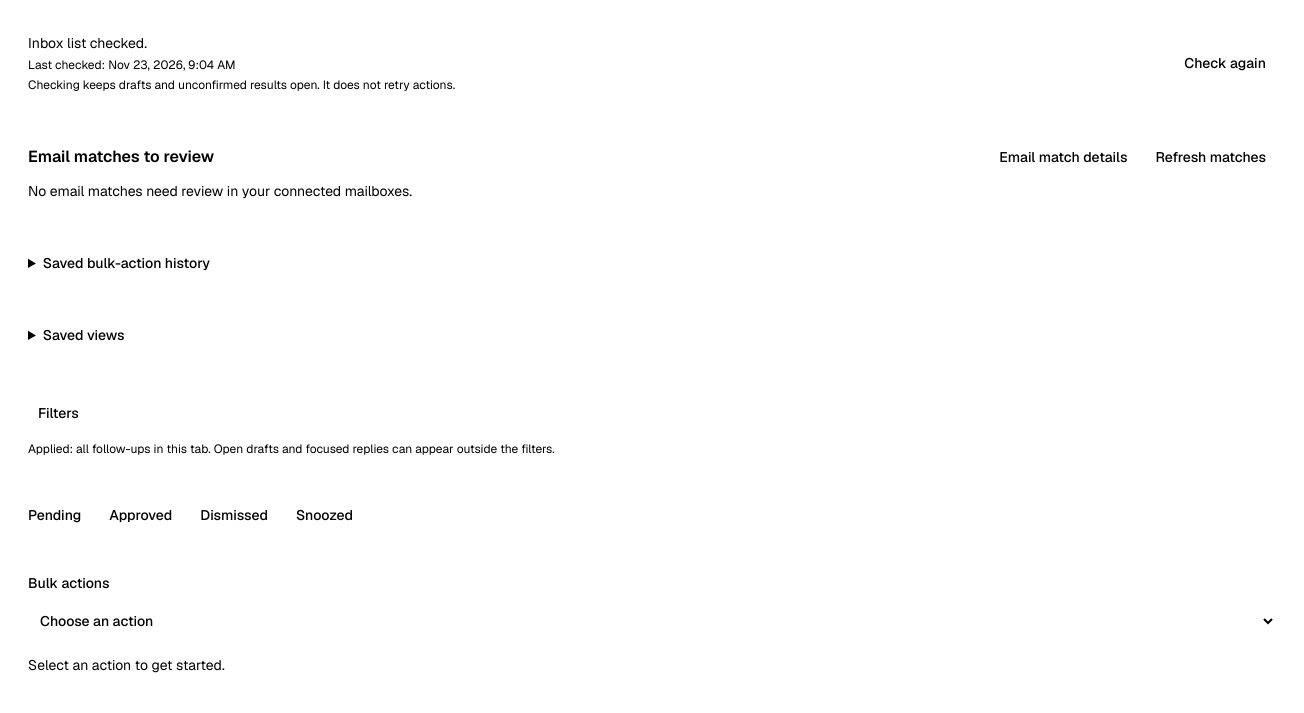
Scenario: removes a woken item immediately from due-only results without another write
Click the button "Filters": (58, 413) top-left (28, 397), bottom-right (89, 429)
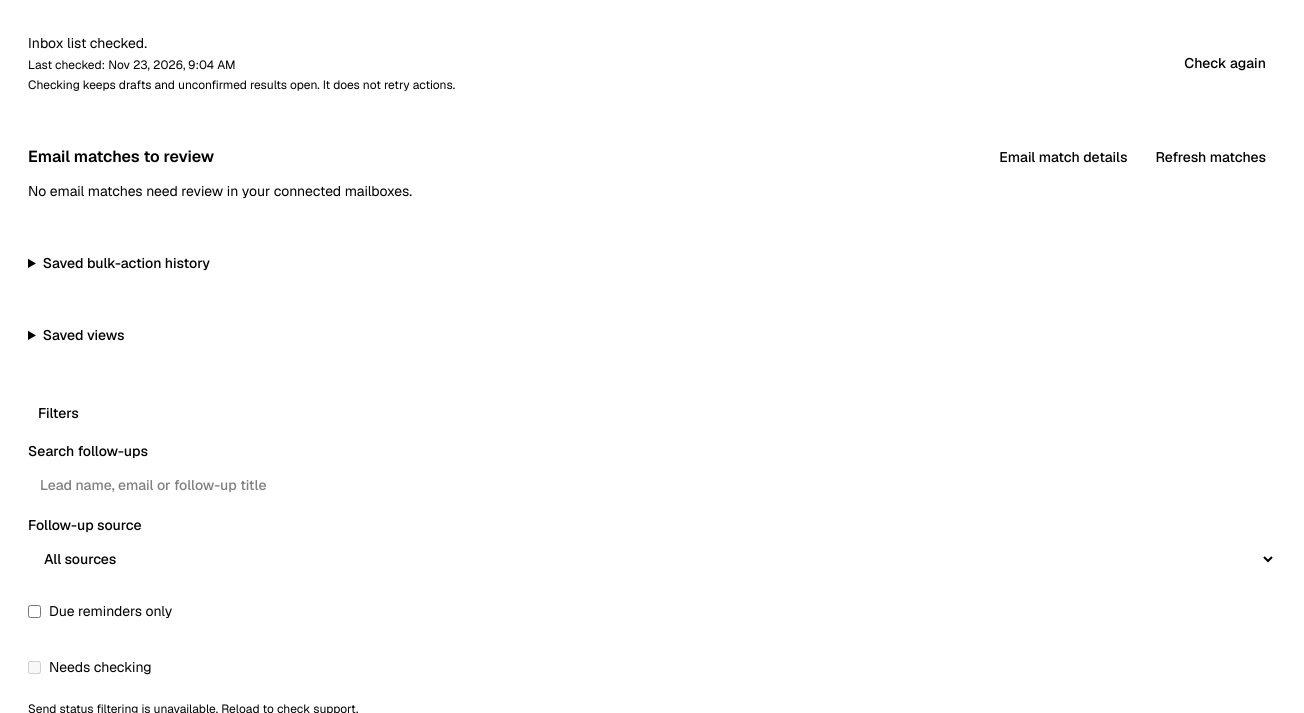
Click the checkbox labelled "Due reminders only": (34, 611) top-left (28, 604), bottom-right (41, 618)
(page scrolled)
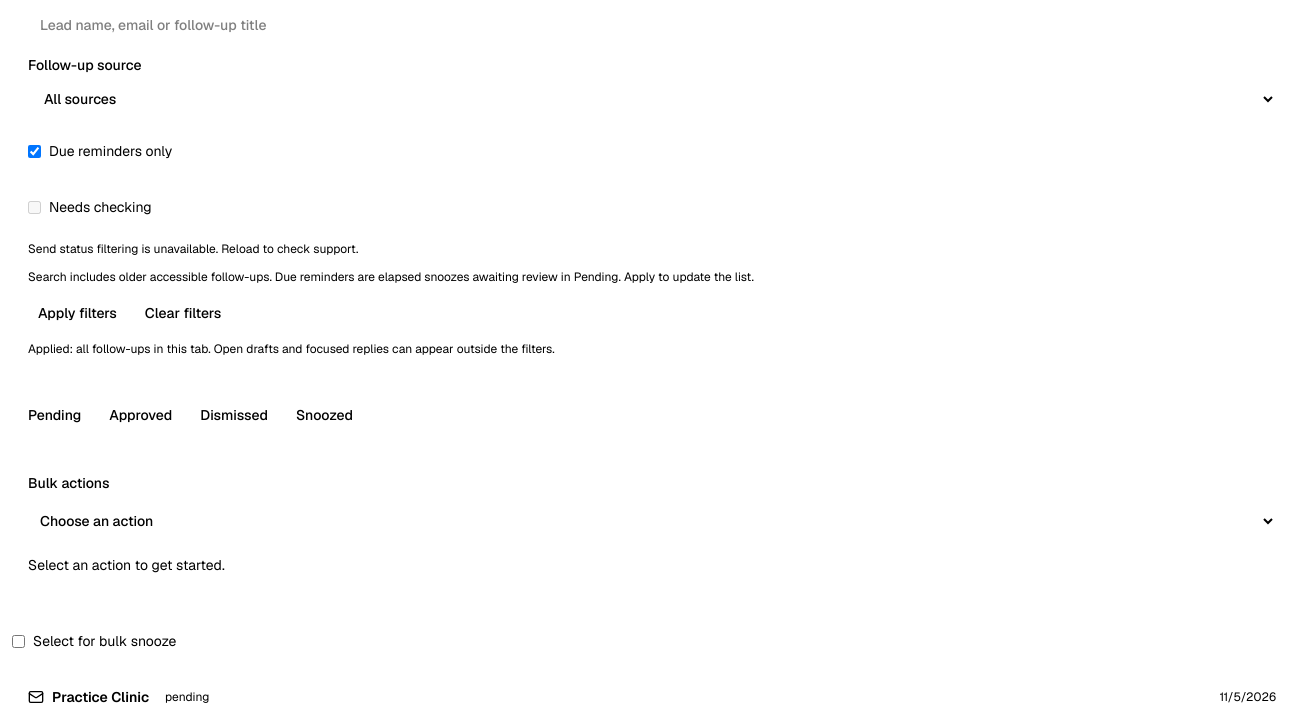
Click the button "Apply filters": (77, 313) top-left (28, 297), bottom-right (127, 329)
(page scrolled)
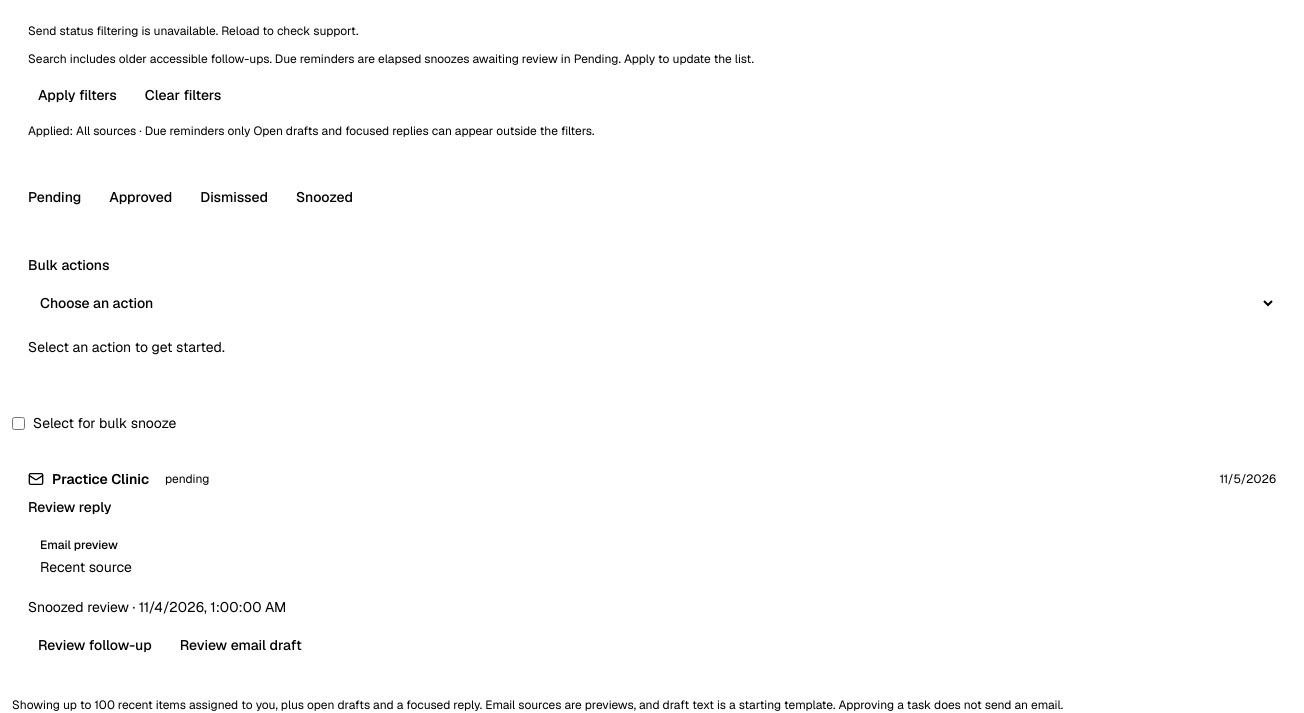
Expected: the text "Recent source" is shown, top-left (40, 558), bottom-right (132, 576)
Click the button "Review follow-up": (95, 645) top-left (28, 629), bottom-right (162, 661)
(page scrolled)
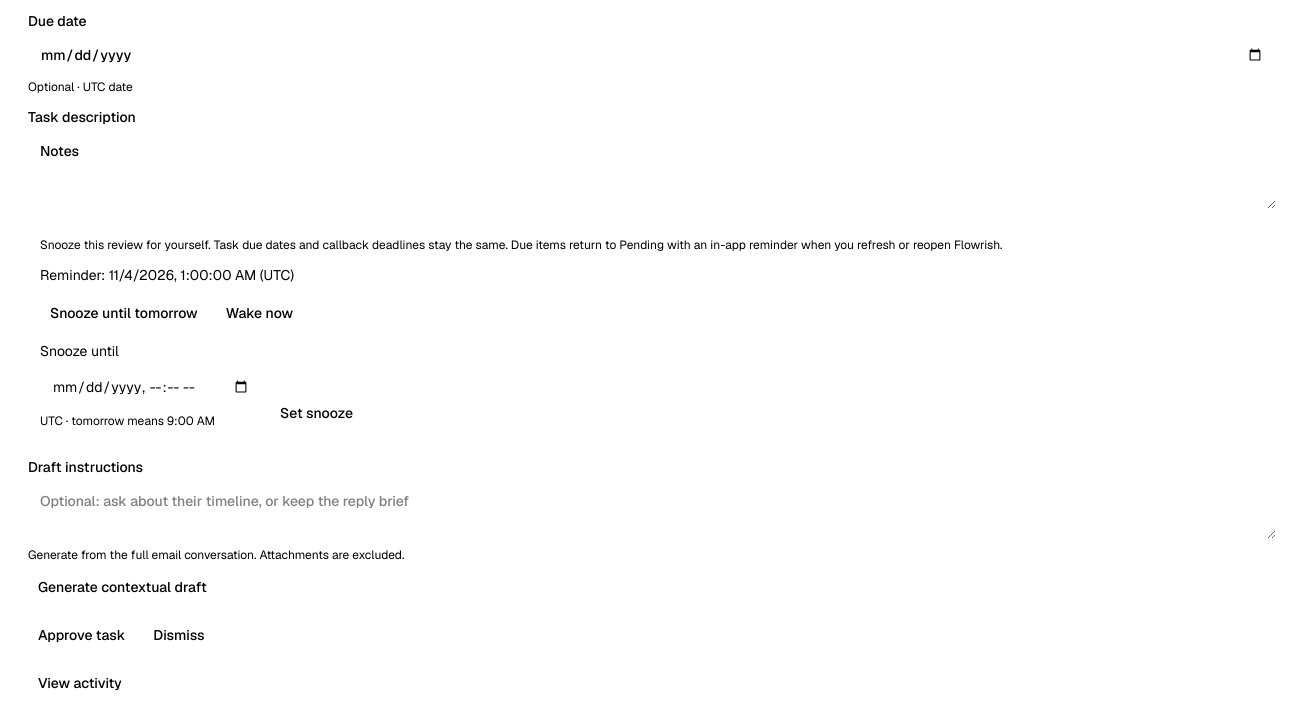
Expected: the button "Wake now" is enabled
Click the button "Wake now": (259, 313) top-left (216, 297), bottom-right (303, 329)
(page scrolled)
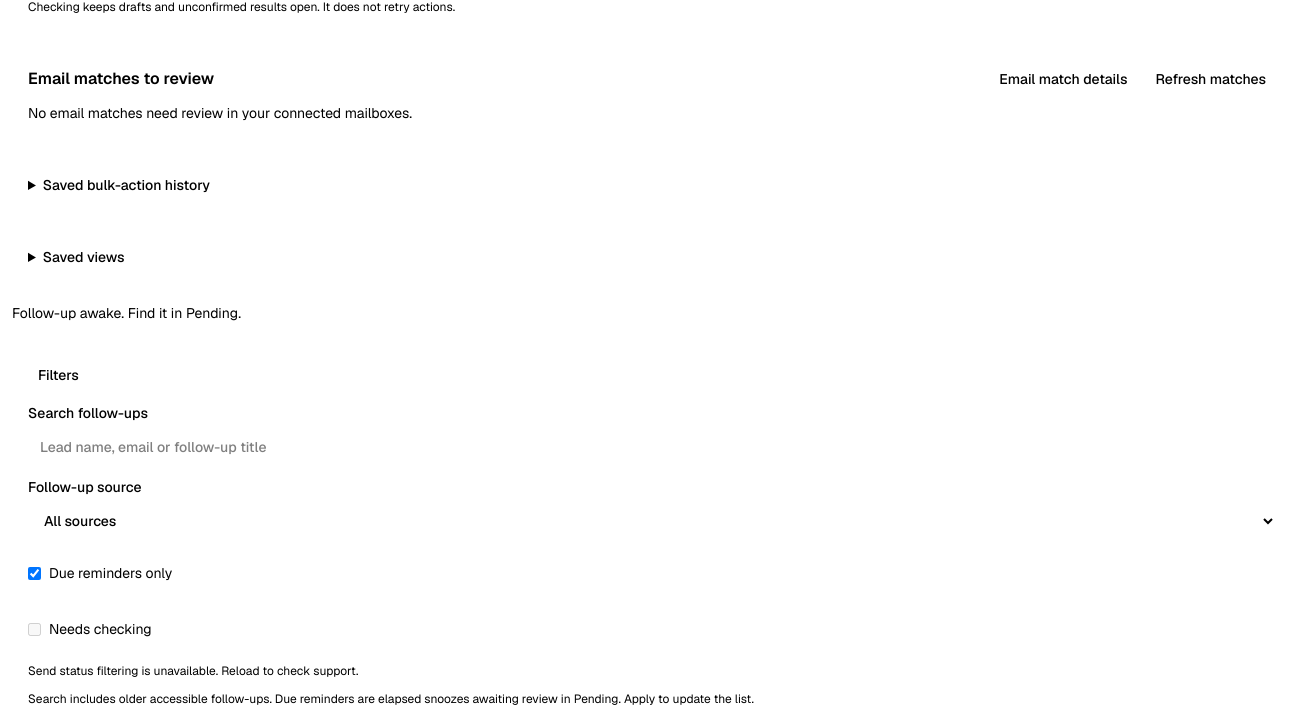
Expected: the text "Follow-up awake. Find it in Pending." is shown, top-left (12, 304), bottom-right (241, 322)
